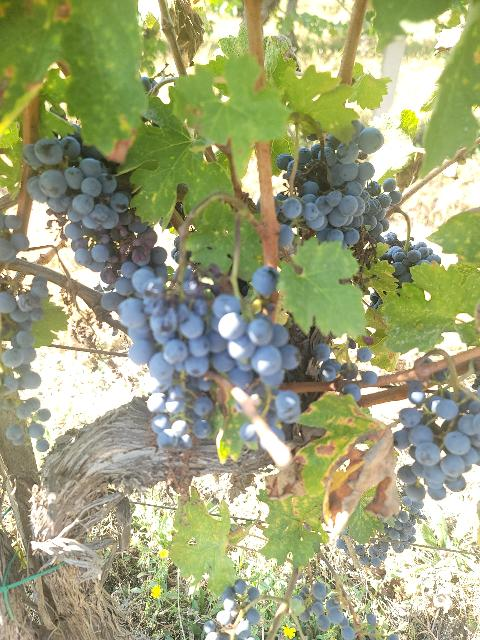grapes: (101, 248, 226, 414), (22, 135, 151, 272), (275, 120, 401, 246), (208, 294, 301, 425), (392, 381, 480, 508), (0, 275, 51, 451), (376, 232, 441, 286)
